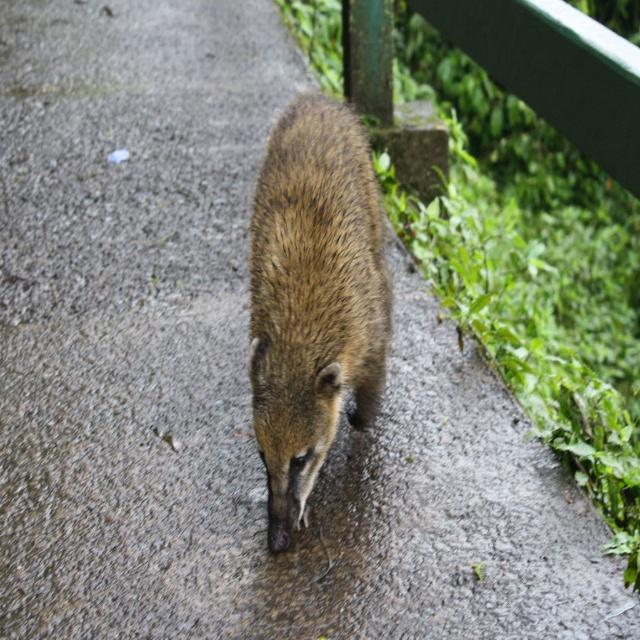Raccoon: (248, 90, 390, 555)
